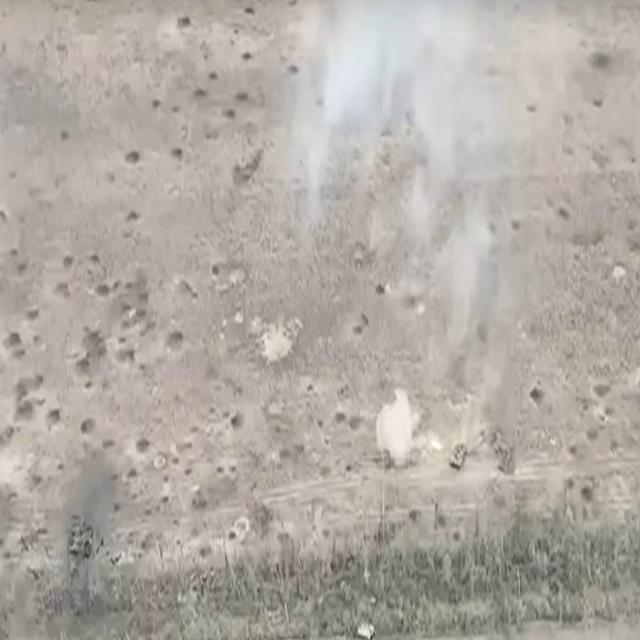MBT: (449, 440, 469, 474)
